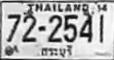1: (98, 14, 103, 42)
2: (47, 14, 61, 42), (22, 15, 36, 41)
4: (79, 14, 92, 42)
5: (63, 14, 77, 42)
7: (6, 13, 20, 41)
SRI: (40, 43, 76, 60)
